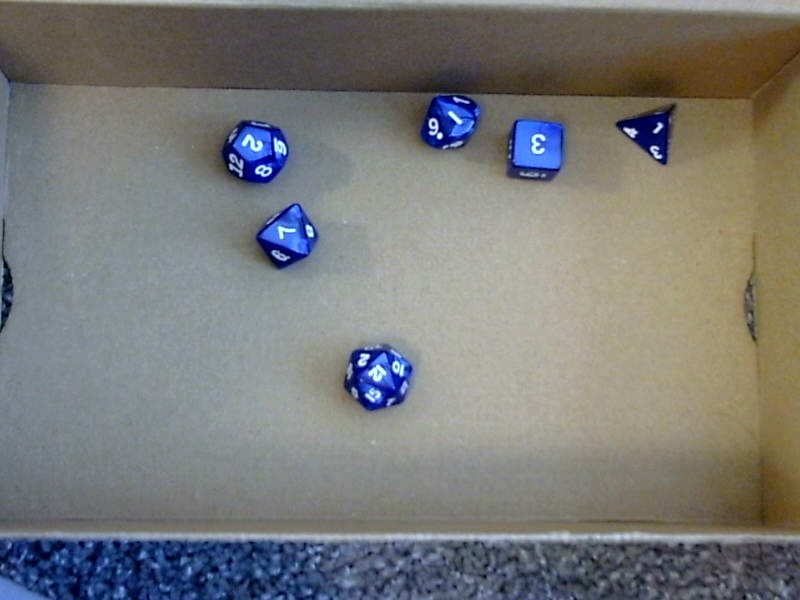d10 1: (412, 87, 479, 155)
d12 2: (215, 115, 288, 185)
d20 12: (339, 339, 414, 412)
d4 1: (607, 97, 678, 172)
d6 3: (502, 119, 563, 179)
d8 7: (253, 200, 319, 275)
